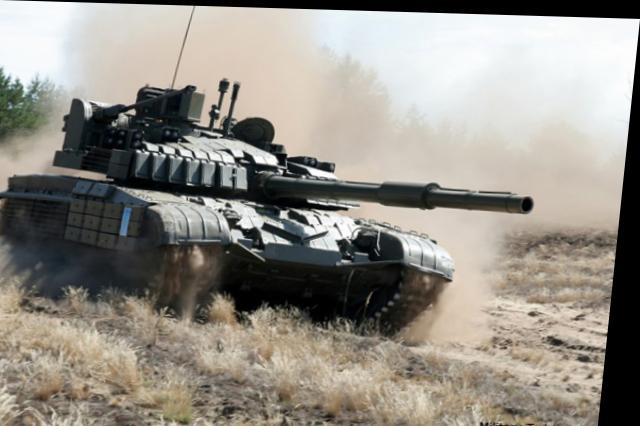tank: (0, 72, 465, 332)
